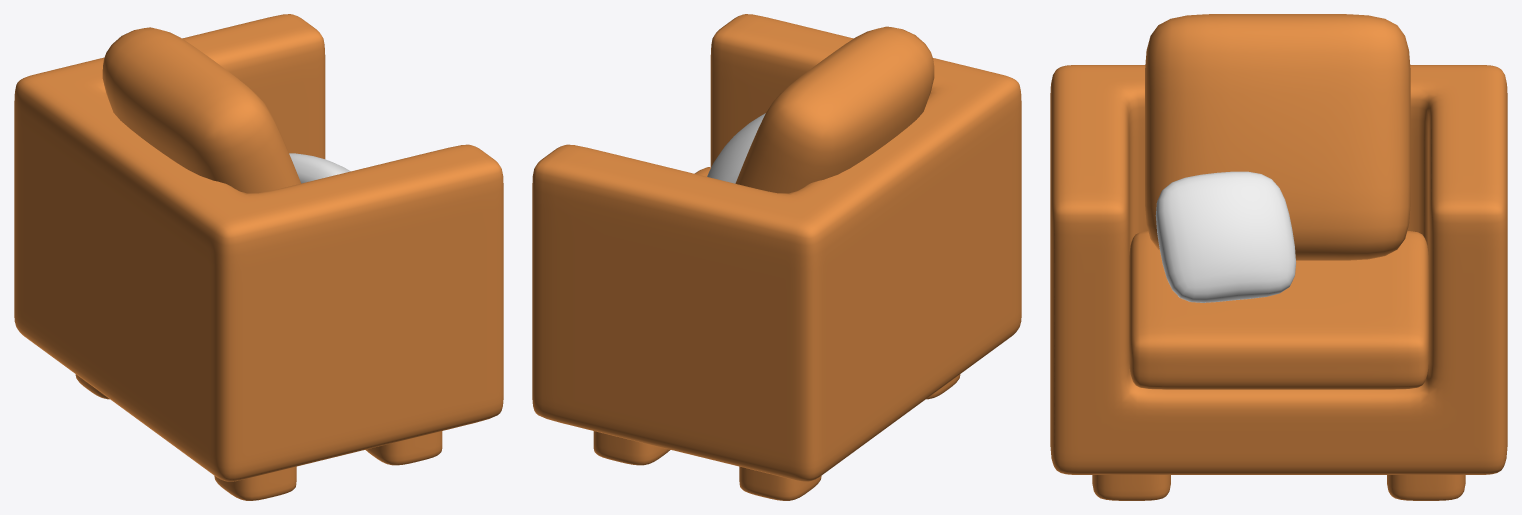
File: sillon.fbx
3 views of the same model, side by side, from view 1: azimuth 30°, elevation 25°; view 2: azimuth 150°, elevation 25°; view 3: azimuth 270°, elevation 25° (orthographic). The views are drawn at different scales.
Parts seen in each view (by area): view 1: Sofa, almohadagrande.003, patas sofá.001, almohada.002; view 2: Sofa, almohadagrande.003, patas sofá.001, almohada.002; view 3: Sofa, almohadagrande.003, almohada.002, patas sofá.001.
Part boxes in pixels (x1,y1,x2,y2): Sofa: (14,14,503,481); almohadagrande.003: (102,27,300,193); patas sofá.001: (75,374,442,500); almohada.002: (289,153,350,183); Sofa: (532,14,1021,481); almohadagrande.003: (735,26,934,193); patas sofá.001: (593,374,960,500); almohada.002: (707,113,765,183); Sofa: (1050,65,1507,474); almohadagrande.003: (1145,14,1410,260); almohada.002: (1155,171,1296,302); patas sofá.001: (1092,475,1465,500).
Bounding box in the file's own units: 90 × 112 × 117.
